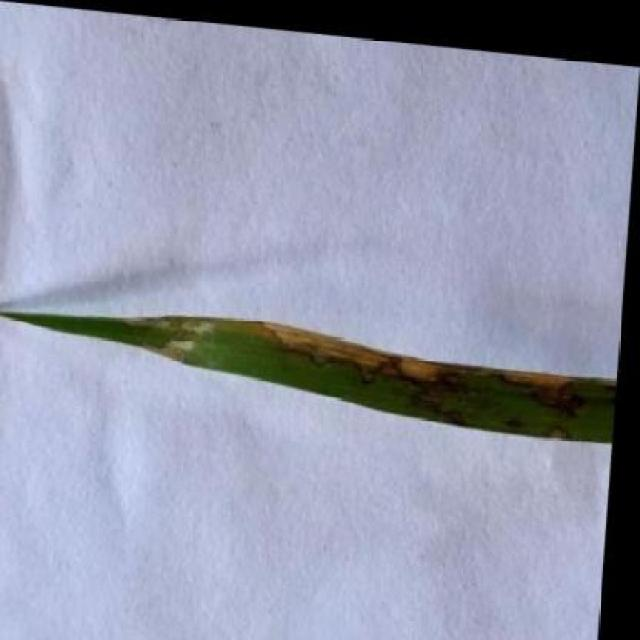Brown_Spot: (0, 281, 625, 444)
